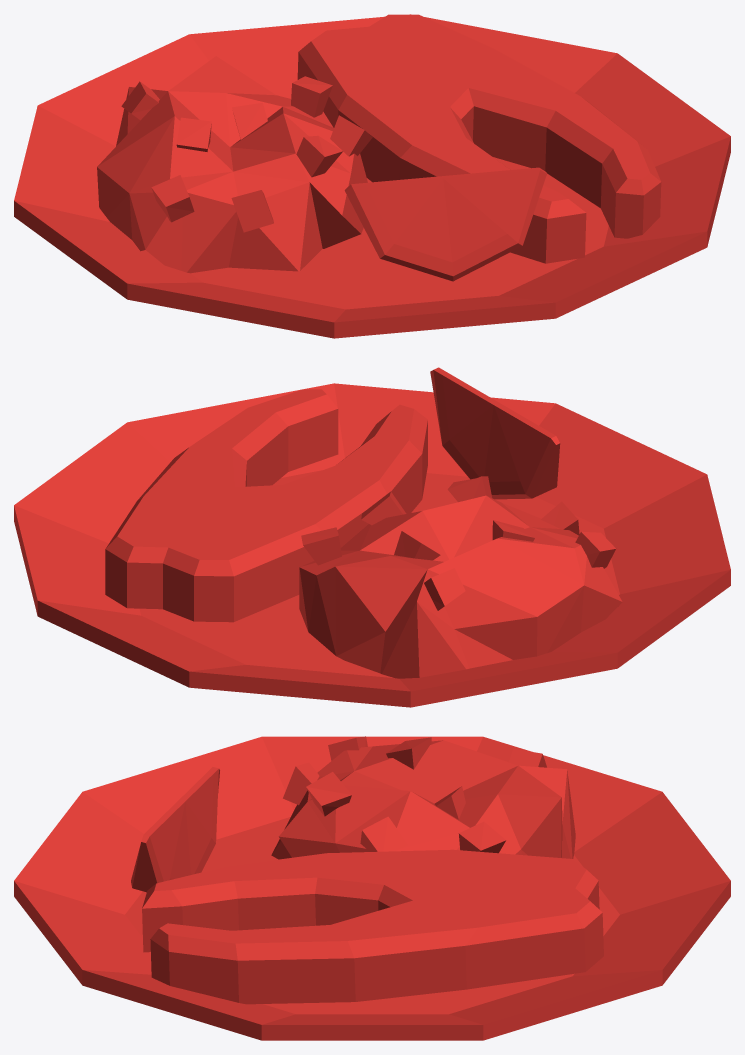
Rendered from SM_Plate_Dinner_Czech_B.fbx.
3 views of the same model, one above another, from view 1: azimuth 30°, elevation 25°; view 2: azimuth 150°, elevation 25°; view 3: azimuth 270°, elevation 25° (orthographic). The views are drawn at different scales.
Parts seen in each view (by area): view 1: plate-dinner-czech-b; view 2: plate-dinner-czech-b; view 3: plate-dinner-czech-b.
Boxes of the visible parts, x1=… form: plate-dinner-czech-b: x1=14, y1=14, x2=730, y2=338; plate-dinner-czech-b: x1=14, y1=367, x2=730, y2=707; plate-dinner-czech-b: x1=14, y1=736, x2=730, y2=1040.
Size of the model in its own units: 0.2995 by 0.0582 by 0.315.
